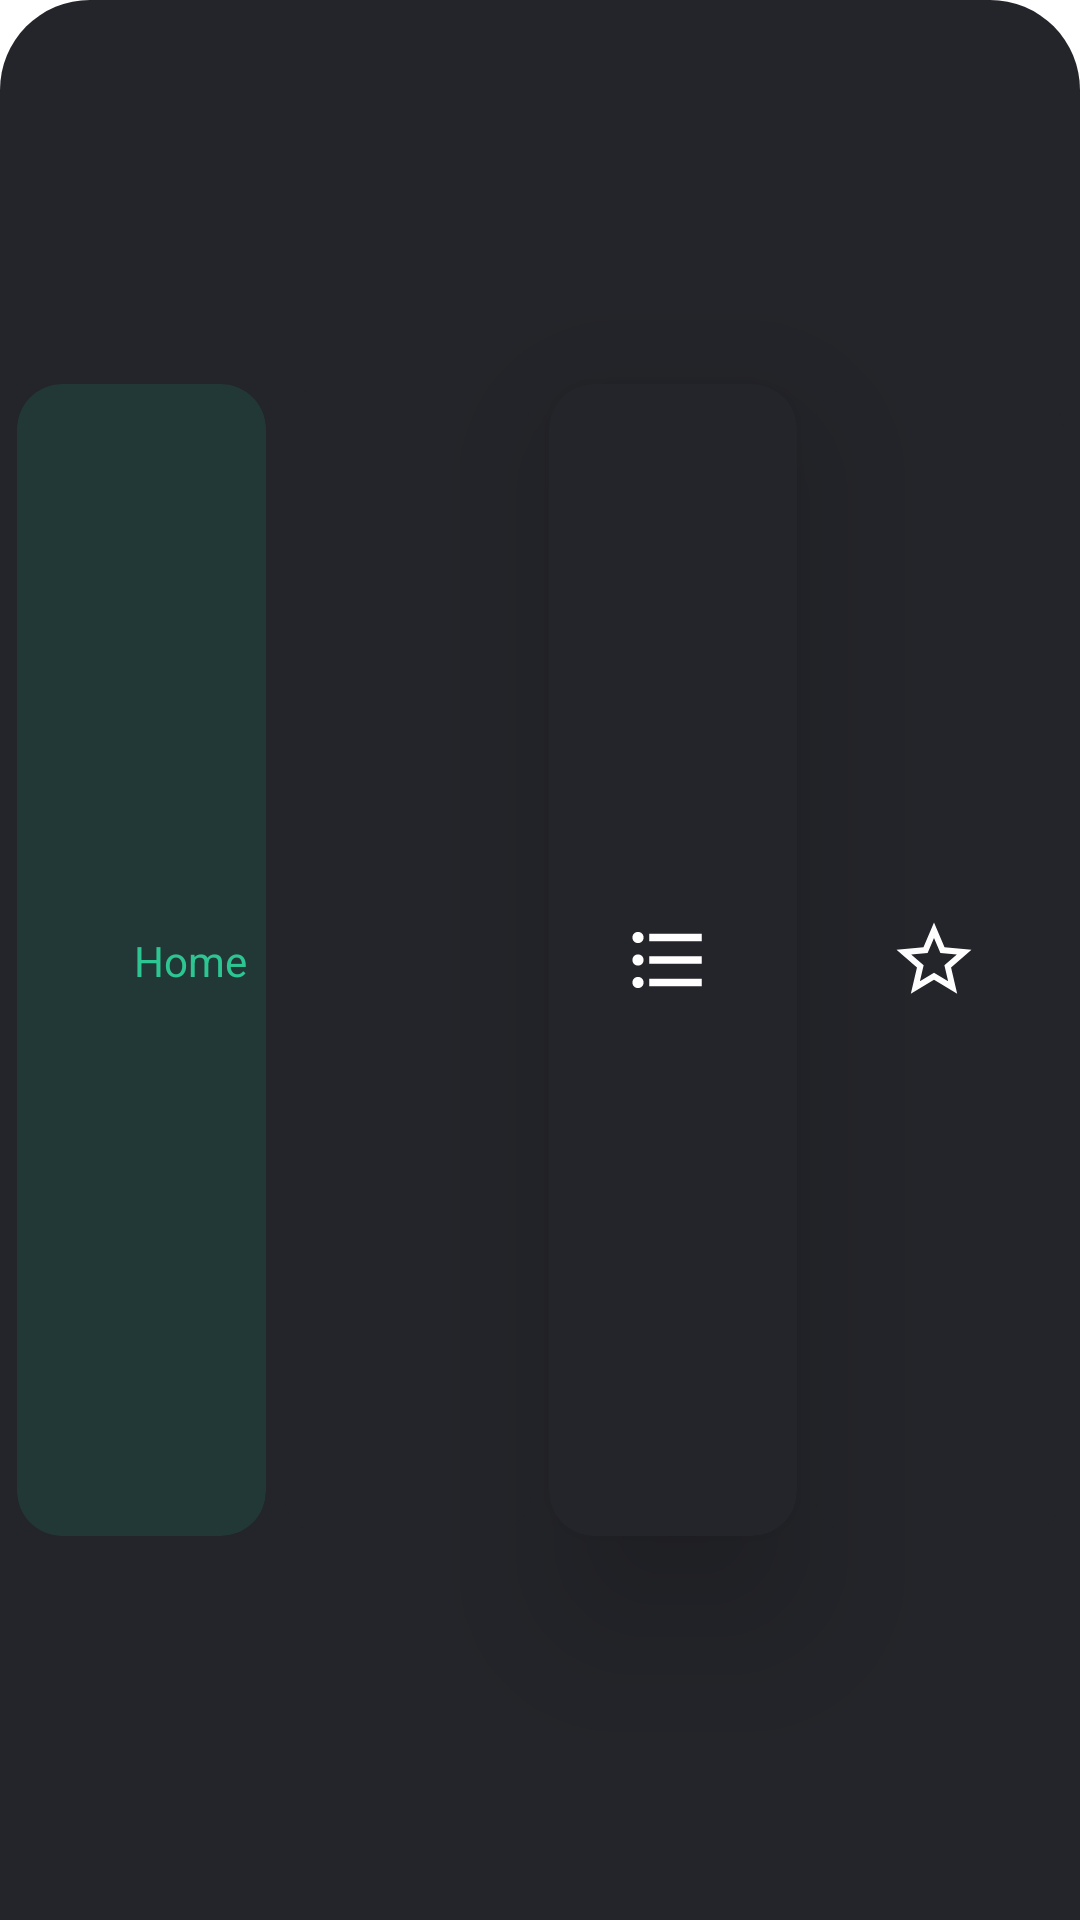

Icon click points for this 1080×1920 phone screenshot, format [x,y]:
favourite: [934,958]
list: [667,960]
